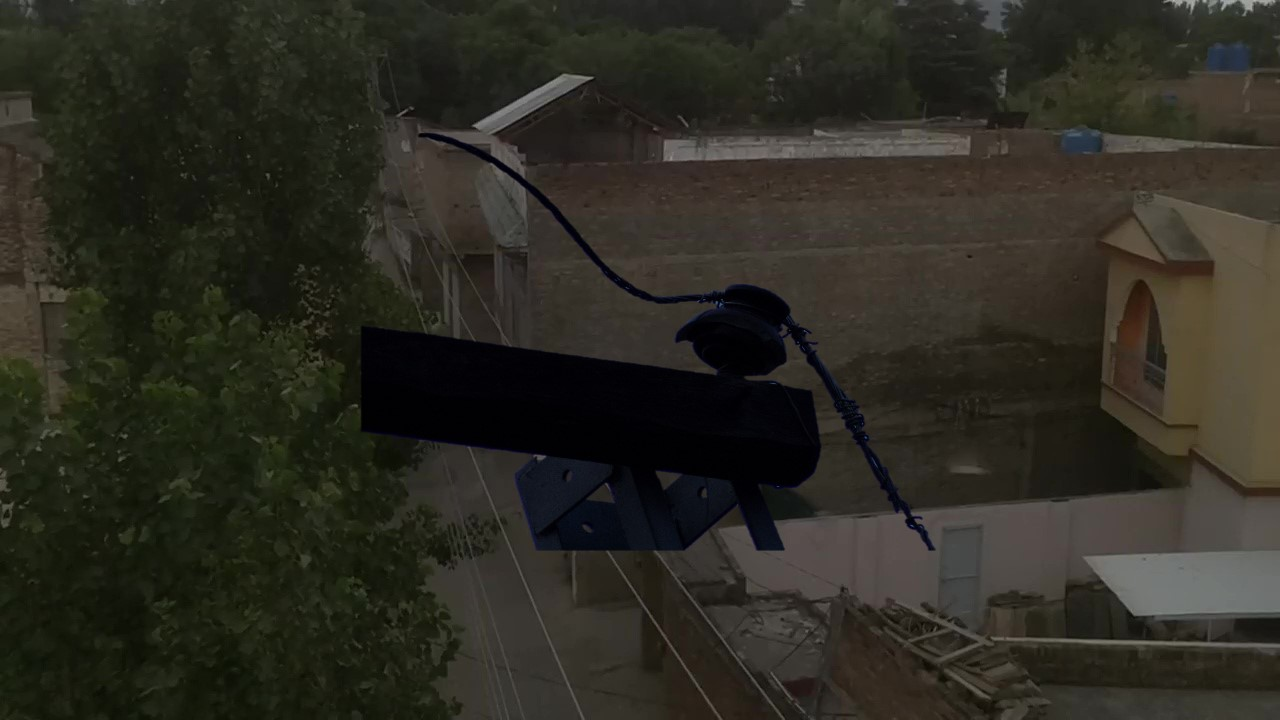defect_pin: (673, 279, 800, 384)
